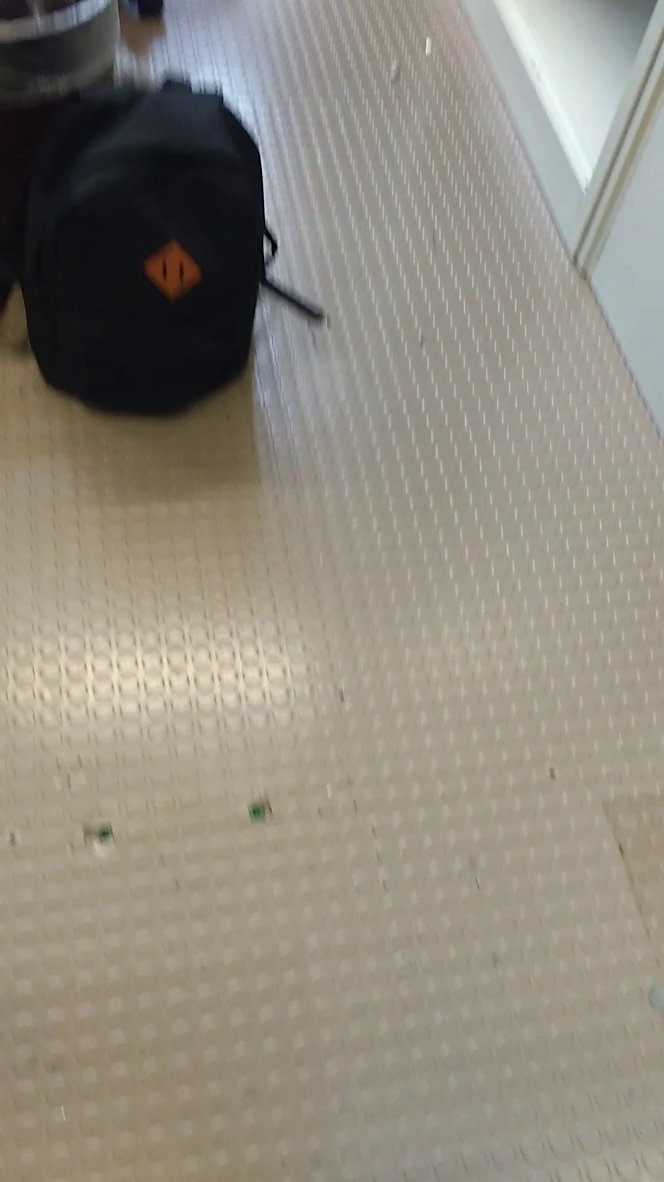bag: (2, 67, 294, 433)
